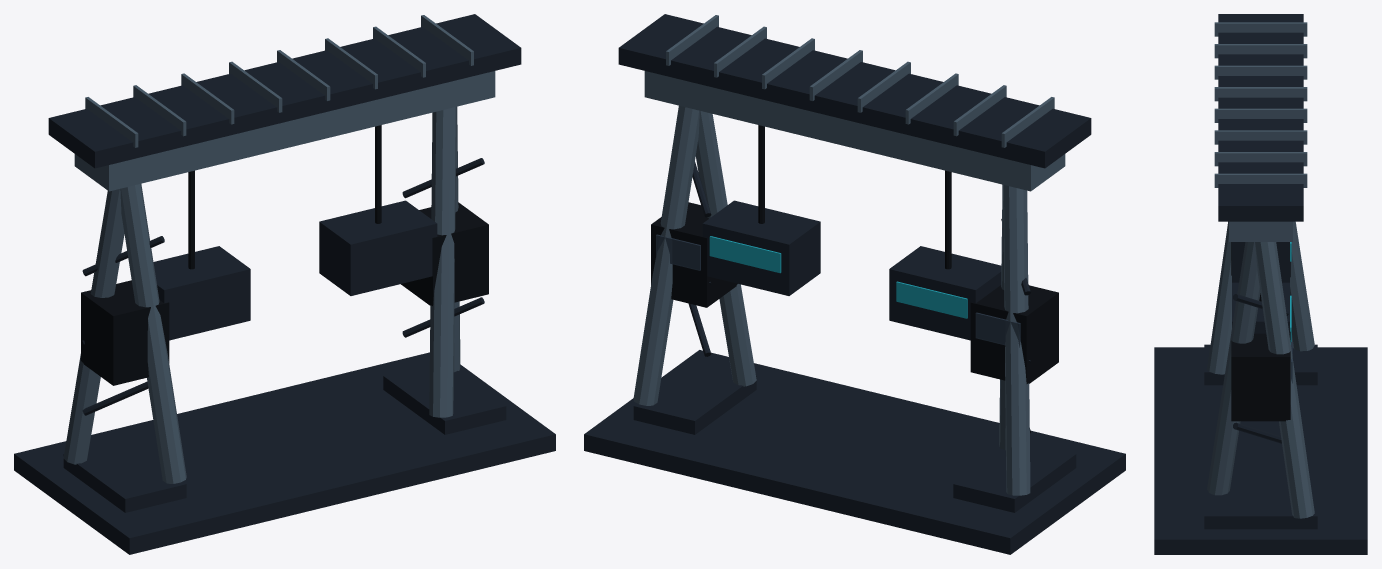
The model's file is chaos_sky_transit_exchange.obj.
The picture shows the model from 3 angles, left to right: view 1: azimuth 30°, elevation 25°; view 2: azimuth 150°, elevation 25°; view 3: azimuth 270°, elevation 25°; orthographic projection. The views are drawn at different scales.
Visible parts, largest first — view 1: GraniteTransitBase, SteelCanopy, OverheadRail, RailPod1, ColumnRear1, ColumnRear-1, RailPod-1, TowerCabin-1, StationFoot-1, ColumnFront-1, StationFoot1, TowerCabin1 (+11 smaller); view 2: GraniteTransitBase, SteelCanopy, OverheadRail, RailPod1, ColumnFront-1, ColumnFront1, RailPod-1, TowerCabin-1, StationFoot1, ColumnRear1, StationFoot-1, TowerCabin1 (+15 smaller); view 3: GraniteTransitBase, SteelCanopy, ColumnFront1, TowerCabin1, ColumnRear1, StationFoot1, ColumnRear-1, ColumnFront-1, OverheadRail, StationFoot-1, CrownRib0, CrownRib5 (+9 smaller).
Boxes of the visible parts, x1,y1,x2,y2 form: GraniteTransitBase: (14,352,555,554); SteelCanopy: (48,14,521,168); OverheadRail: (74,71,495,191); RailPod1: (319,200,437,295); ColumnRear1: (429,106,456,417); ColumnRear-1: (120,184,186,483); RailPod-1: (153,246,250,340); TowerCabin-1: (81,280,169,385); StationFoot-1: (63,439,186,512); ColumnFront-1: (63,189,124,464); StationFoot1: (383,365,506,434); TowerCabin1: (401,202,488,305); GraniteTransitBase: (584,350,1125,554); SteelCanopy: (618,14,1091,168); OverheadRail: (644,71,1065,191); RailPod1: (702,200,820,295); ColumnFront-1: (1003,184,1030,495); ColumnFront1: (633,105,699,405); RailPod-1: (889,246,1001,340); TowerCabin-1: (970,285,1058,383); StationFoot1: (633,361,756,434); ColumnRear1: (695,111,756,386); StationFoot-1: (953,443,1076,512); TowerCabin1: (651,202,737,307); GraniteTransitBase: (1154,347,1367,554); SteelCanopy: (1218,14,1303,221); ColumnFront1: (1255,242,1314,518); TowerCabin1: (1231,331,1290,421); ColumnRear1: (1207,242,1260,495); StationFoot1: (1204,489,1317,529); ColumnRear-1: (1207,221,1231,374); ColumnFront-1: (1290,221,1314,351); OverheadRail: (1229,221,1292,241); StationFoot-1: (1204,344,1317,385); CrownRib0: (1214,22,1307,36); CrownRib5: (1214,130,1307,144).
Size of the model in its own units: 32 by 27.8 by 15.
